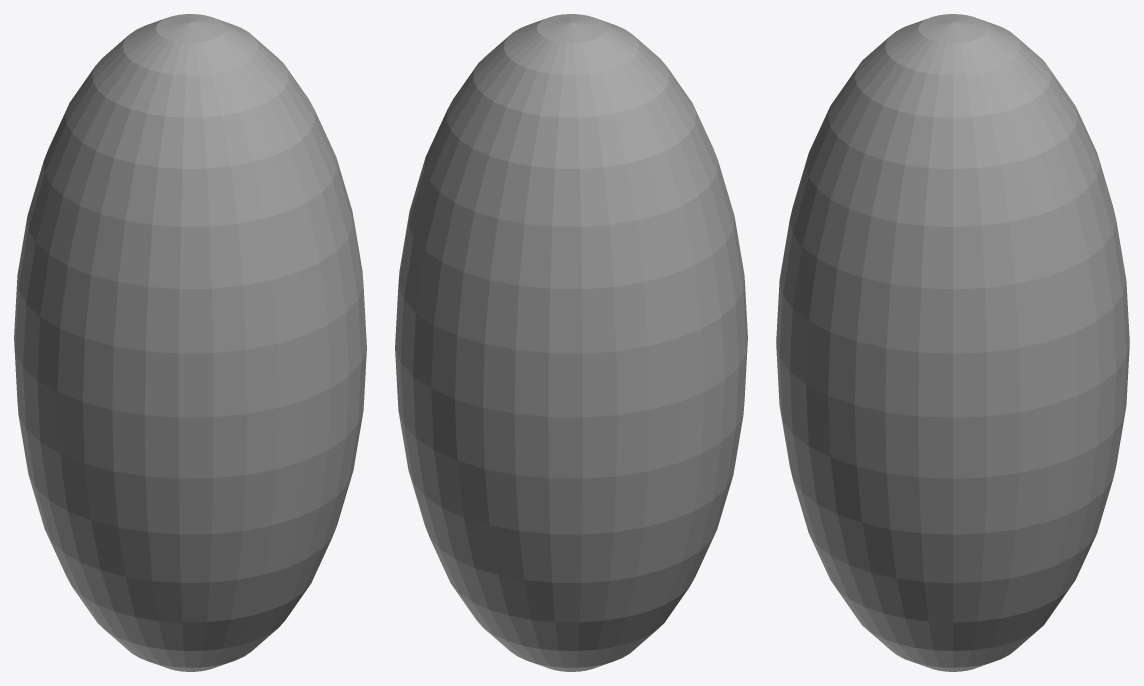
File: knightTest.gltf
The picture shows the model from 3 angles, left to right: view 1: azimuth 30°, elevation 25°; view 2: azimuth 150°, elevation 25°; view 3: azimuth 270°, elevation 25°; orthographic projection.
Parts seen in each view (by area): view 1: 球; view 2: 球; view 3: 球.
Boxes of the visible parts, <box> form: 球: <box>14,14,366,671</box>; 球: <box>395,14,747,671</box>; 球: <box>776,14,1129,671</box>.
Size of the model in its own units: 1 by 2 by 1.
Materials: 1 (1 with a texture image).
